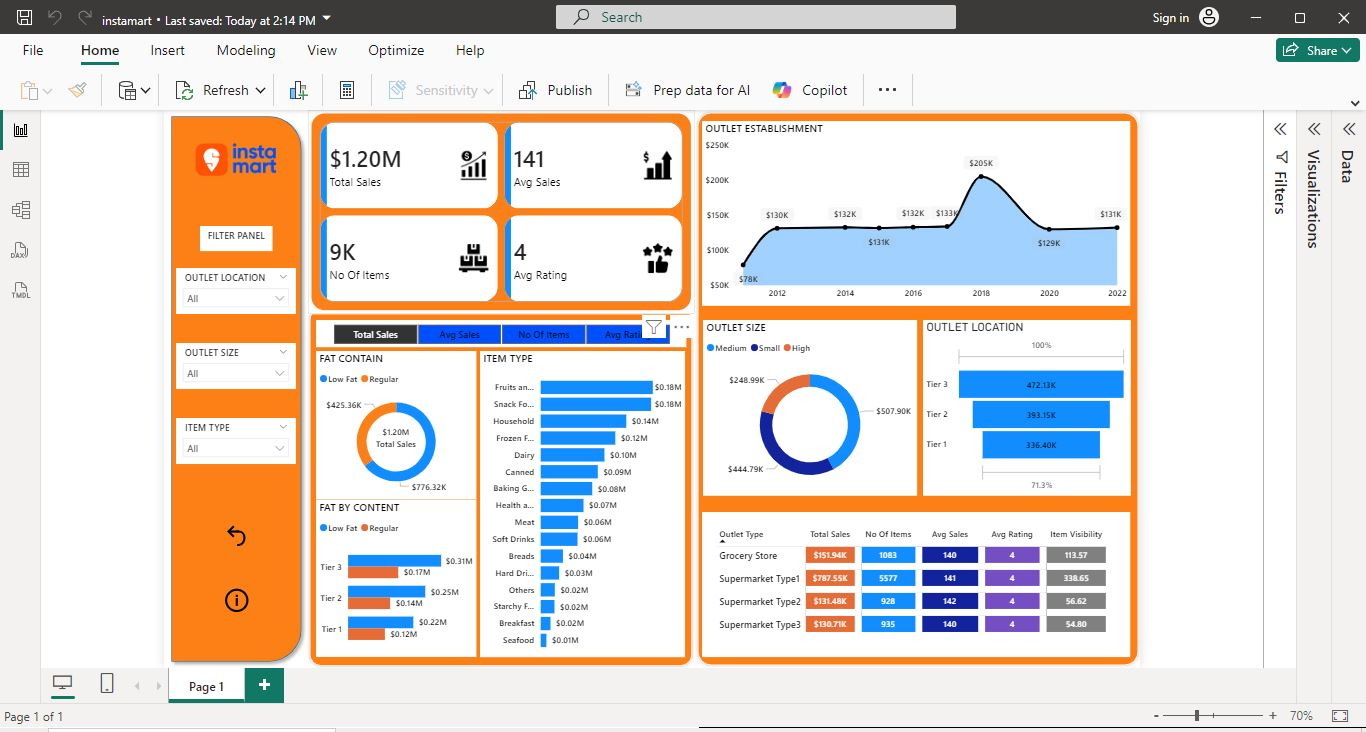

The dashboard page shown, as its layout file describes it:
{"tool":"powerbi","page":{"name":"Page 1","canvas":[1400,800],"ordinal":0},"visuals":[{"type":"shape","box":[1.6,0,204.7,800],"z":0},{"type":"image","box":[18.1,15.1,153.5,141.5],"z":1000},{"type":"shape","box":[204.7,280.3,555.9,519.7],"z":2000},{"type":"slicer","title":"FAT CONTAIN","fields":{"Values":["Mertics.Mertics"]},"box":[217.3,300.8,530.7,39.4],"z":3000},{"type":"donutChart","title":"FAT CONTAIN","fields":{"Y":["insta mart Grocery Data.Total Sales"],"Category":["BlinkIT Grocery Data (2).Item Fat Content"]},"box":[217.3,344.9,229.9,212.6],"z":4000},{"type":"cardVisual","fields":{"Data":["insta mart Grocery Data.Total Sales"]},"box":[266.1,431.5,132.3,75.6],"z":5000},{"type":"clusteredBarChart","title":" FAT BY CONTENT","fields":{"Y":["insta mart Grocery Data.Total Sales"],"Series":["BlinkIT Grocery Data (2).Item Fat Content"],"Category":["BlinkIT Grocery Data (2).Outlet Location Type"]},"box":[217.3,559.1,229.9,225.2],"z":6000},{"type":"clusteredBarChart","title":"ITEM TYPE","fields":{"Y":["insta mart Grocery Data.Total Sales"],"Category":["BlinkIT Grocery Data (2).Item Type"]},"box":[453.5,344.9,294.5,439.4],"z":7000},{"type":"shape","box":[760.6,0,639.4,800],"z":8000},{"type":"lineChart","title":"OUTLET ESTABLISHMENT ","fields":{"Category":["BlinkIT Grocery Data (2).Outlet Establishment Year"],"Y":["BlinkIT Grocery Data (2).Total Sales"]},"box":[771.7,15.7,614.2,264.6],"z":9000},{"type":"cardVisual","fields":{"Data":["BlinkIT Grocery Data.Total Sales","BlinkIT Grocery Data.Avg Sales","BlinkIT Grocery Data.No Of Items","BlinkIT Grocery Data.Avg Rating"]},"box":[206.3,0,554.3,292.9],"z":10000},{"type":"donutChart","title":"OUTLET SIZE","fields":{"Y":["BlinkIT Grocery Data.Total Sales"],"Category":["BlinkIT Grocery Data.Outlet Size"]},"box":[773.2,300.8,307.1,252],"z":11000},{"type":"funnel","title":"OUTLET LOCATION","fields":{"Y":["Sum(BlinkIT Grocery Data.Sales)"],"Category":["BlinkIT Grocery Data.Outlet Location Type"]},"box":[1088.2,300.8,297.6,252],"z":12000},{"type":"pivotTable","fields":{"Rows":["BlinkIT Grocery Data.Outlet Type"],"Values":["BlinkIT Grocery Data.Total Sales","BlinkIT Grocery Data.No Of Items","BlinkIT Grocery Data.Avg Sales","BlinkIT Grocery Data.Avg Rating","Sum(BlinkIT Grocery Data.Item Visibility)"]},"box":[771.7,576.4,614.2,207.9],"z":13000},{"type":"slicer","fields":{"Values":["BlinkIT Grocery Data.Outlet Location Type"]},"box":[17.3,226.8,171.7,66.1],"z":14000},{"type":"slicer","fields":{"Values":["BlinkIT Grocery Data.Item Type"]},"box":[17.3,440.9,171.7,66.1],"z":15000},{"type":"actionButton","box":[80.3,590.6,47.2,39.4],"z":16000},{"type":"actionButton","box":[79.8,648.8,46.7,43.7],"z":17000},{"type":"textbox","box":[51.2,182.2,103.9,28.6],"z":18000},{"type":"slicer","fields":{"Values":["BlinkIT Grocery Data.Outlet Size"]},"box":[17.3,333.9,171.7,66.1],"z":19000}]}

Visuals, with their boxes on the page's 1400x800 design canvas (x1, y1, x2, y2). These are canvas units, not pixel positions in the 1366x732 screenshot, which may show the page scaled, cropped or inside an application window:
shape: <bbox>2, 0, 206, 800</bbox>
image: <bbox>18, 15, 172, 157</bbox>
shape: <bbox>205, 280, 761, 800</bbox>
"FAT CONTAIN" slicer: <bbox>217, 301, 748, 340</bbox>
"FAT CONTAIN" donutChart: <bbox>217, 345, 447, 558</bbox>
cardVisual - insta mart Grocery Data.Total Sales: <bbox>266, 432, 398, 507</bbox>
" FAT BY CONTENT" clusteredBarChart: <bbox>217, 559, 447, 784</bbox>
"ITEM TYPE" clusteredBarChart: <bbox>454, 345, 748, 784</bbox>
shape: <bbox>761, 0, 1400, 800</bbox>
"OUTLET ESTABLISHMENT " lineChart: <bbox>772, 16, 1386, 280</bbox>
cardVisual - BlinkIT Grocery Data.Total Sales x BlinkIT Grocery Data.Avg Sales: <bbox>206, 0, 761, 293</bbox>
"OUTLET SIZE" donutChart: <bbox>773, 301, 1080, 553</bbox>
"OUTLET LOCATION" funnel: <bbox>1088, 301, 1386, 553</bbox>
pivotTable - BlinkIT Grocery Data.Outlet Type x BlinkIT Grocery Data.Total Sales: <bbox>772, 576, 1386, 784</bbox>
slicer - BlinkIT Grocery Data.Outlet Location Type: <bbox>17, 227, 189, 293</bbox>
slicer - BlinkIT Grocery Data.Item Type: <bbox>17, 441, 189, 507</bbox>
actionButton: <bbox>80, 591, 128, 630</bbox>
actionButton: <bbox>80, 649, 126, 692</bbox>
textbox: <bbox>51, 182, 155, 211</bbox>
slicer - BlinkIT Grocery Data.Outlet Size: <bbox>17, 334, 189, 400</bbox>
